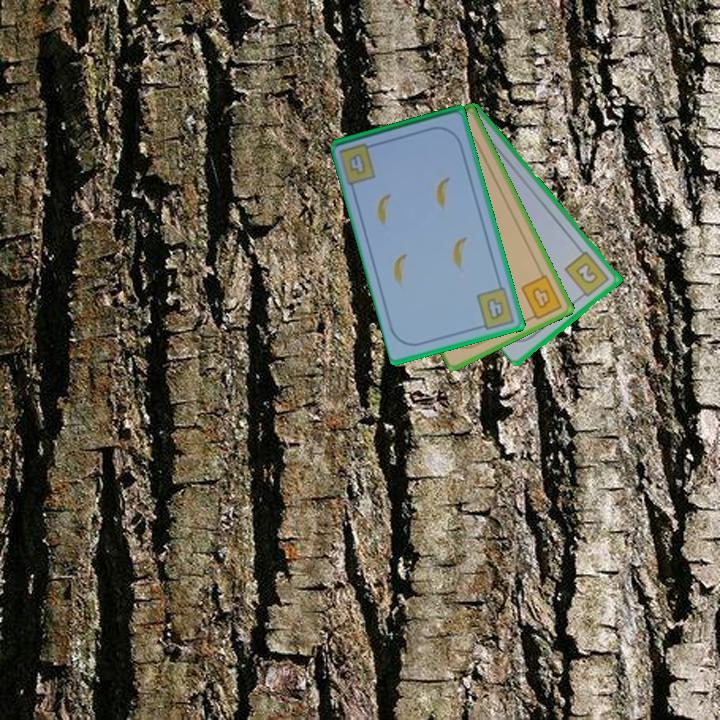2b: (561, 248, 612, 302)
4b: (518, 271, 565, 323), (473, 284, 518, 332), (345, 150, 369, 178)
